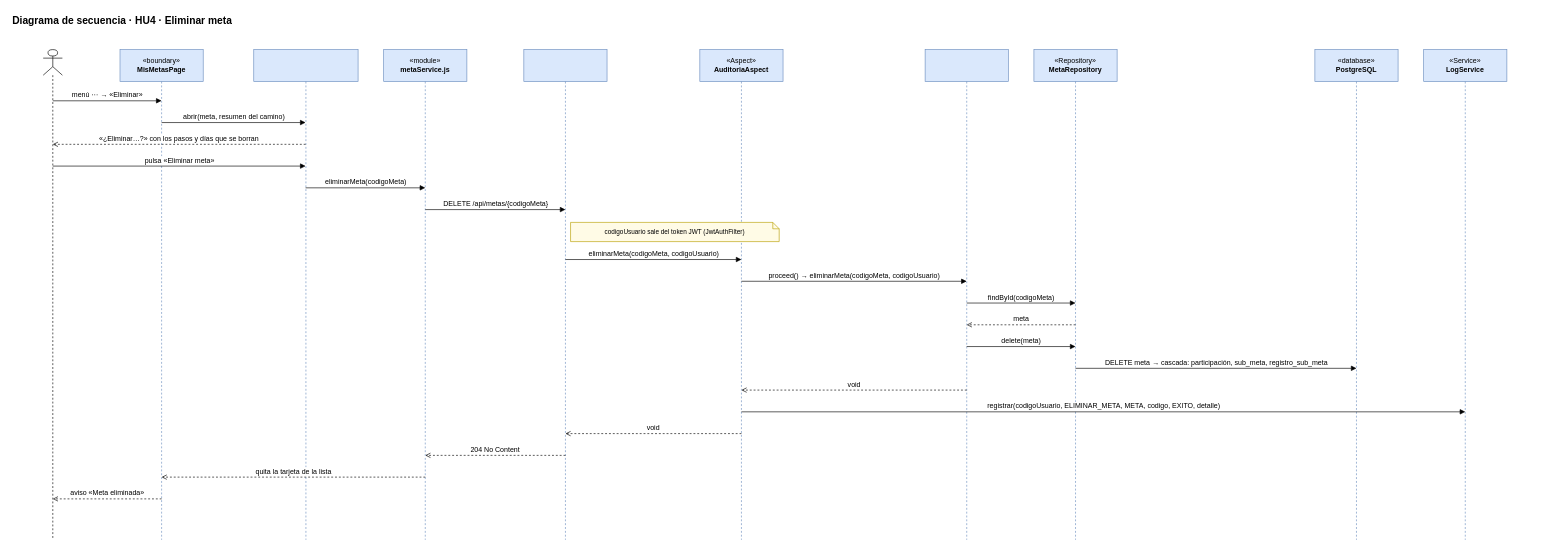
The diagram is 1543 pixels wide and 551 high, and some of its shapes have lost their labels. The box of each missing label's shape, as (x1, y1, x2, y2) in pixels:
Usuario: (43, 49, 62, 540)
«boundary» ConfirmarEliminarModal: (253, 49, 358, 540)
«RestController» MetaController: (523, 49, 607, 540)
«Service» MetaService: (924, 49, 1008, 540)
